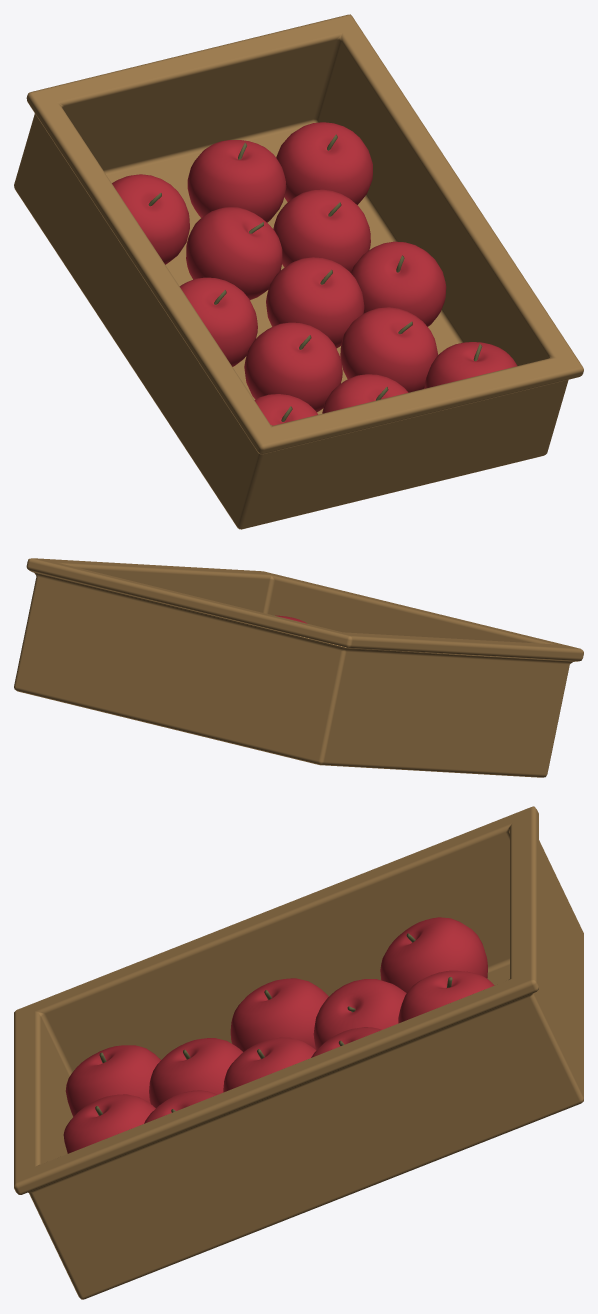
The model's file is apple_basket.fbx.
The picture shows the model from 3 angles, top to bottom: view 1: azimuth 30°, elevation 25°; view 2: azimuth 150°, elevation 25°; view 3: azimuth 270°, elevation 25°; orthographic projection. The views are drawn at different scales.
Visible parts, largest first — view 1: apple_basket; view 2: apple_basket; view 3: apple_basket.
Part boxes in pixels (x1=…): apple_basket: x1=14, y1=14, x2=583, y2=529; apple_basket: x1=14, y1=558, x2=583, y2=777; apple_basket: x1=14, y1=806, x2=583, y2=1299.
Bounding box in the file's own units: 33.01 × 28.2 × 45.02.
